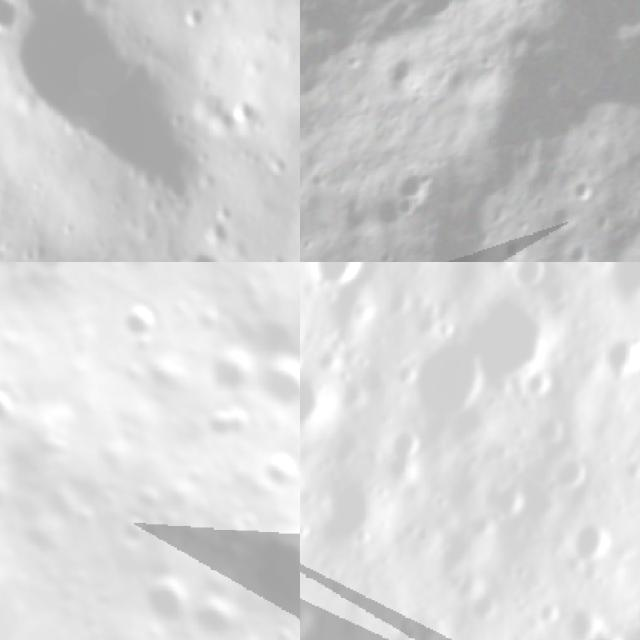crater: (14, 0, 219, 205), (408, 348, 498, 434), (244, 513, 300, 613), (197, 333, 269, 405), (112, 289, 172, 351), (184, 583, 249, 640), (134, 567, 194, 628), (376, 37, 435, 99), (252, 344, 300, 418), (300, 368, 344, 448), (563, 521, 620, 578), (300, 262, 377, 304), (384, 153, 441, 206), (372, 421, 427, 475), (543, 444, 596, 498), (109, 508, 162, 558), (597, 337, 640, 394), (542, 194, 592, 240), (513, 358, 559, 407), (562, 168, 610, 212), (163, 230, 228, 262), (17, 262, 85, 286), (559, 601, 599, 640), (0, 378, 27, 434), (507, 262, 552, 294), (300, 594, 325, 640), (180, 460, 214, 492), (576, 622, 636, 640), (532, 597, 562, 628), (0, 0, 24, 38), (0, 473, 19, 519), (629, 187, 640, 232)
